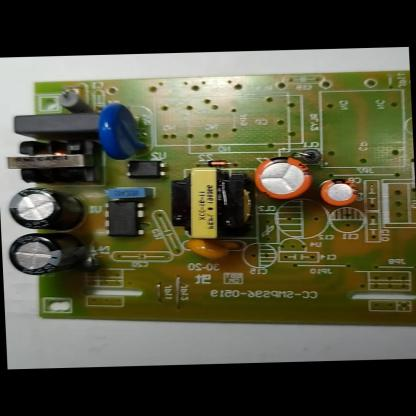Cap1: (250, 154, 315, 201)
Cap2: (319, 178, 361, 208)
Cap3: (6, 186, 88, 232)
Cap4: (7, 231, 89, 275)
MOSFET: (102, 200, 146, 238)
Mov: (96, 101, 147, 160)
Resistor: (55, 89, 91, 114)
Transformer: (170, 166, 255, 240), (5, 138, 101, 185)
